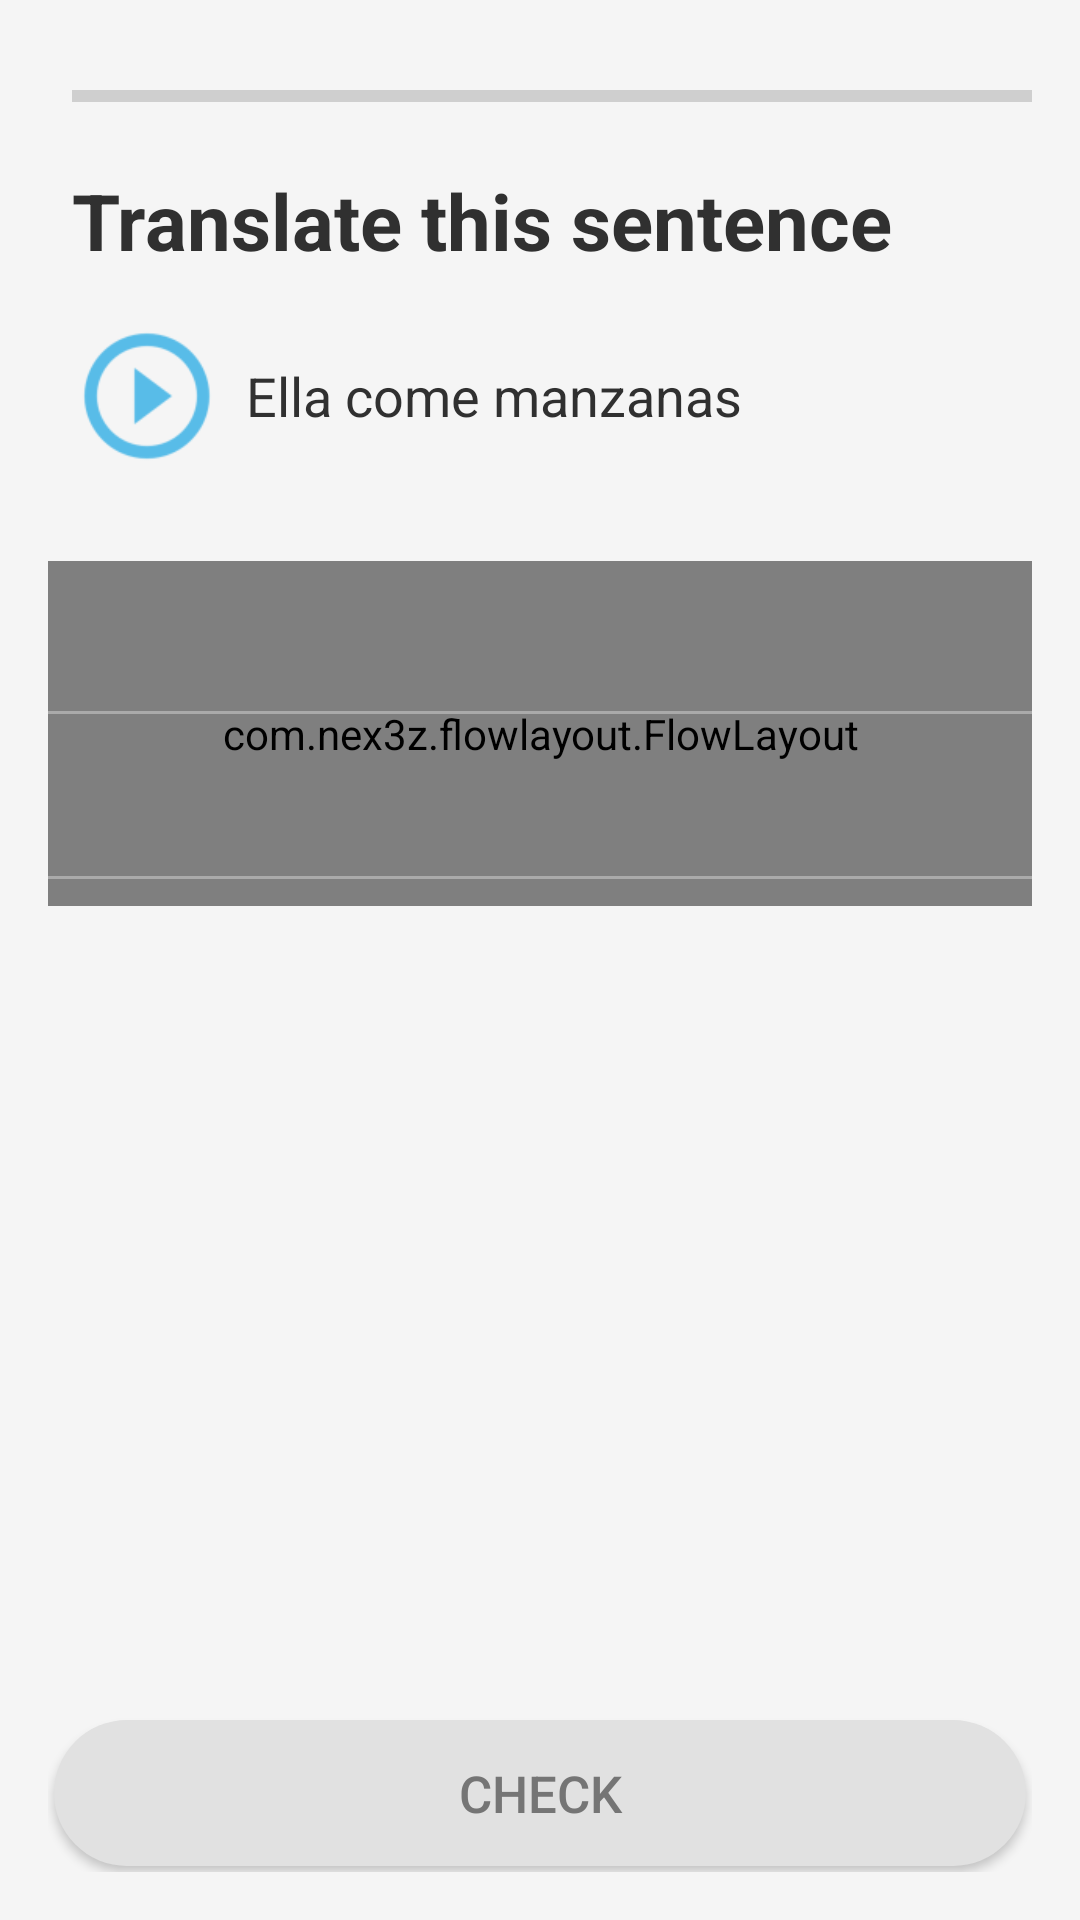

Where to tap for icons on this 1080x1920 app screen, as (x=x, y=y):
play voice: (x=147, y=396)
